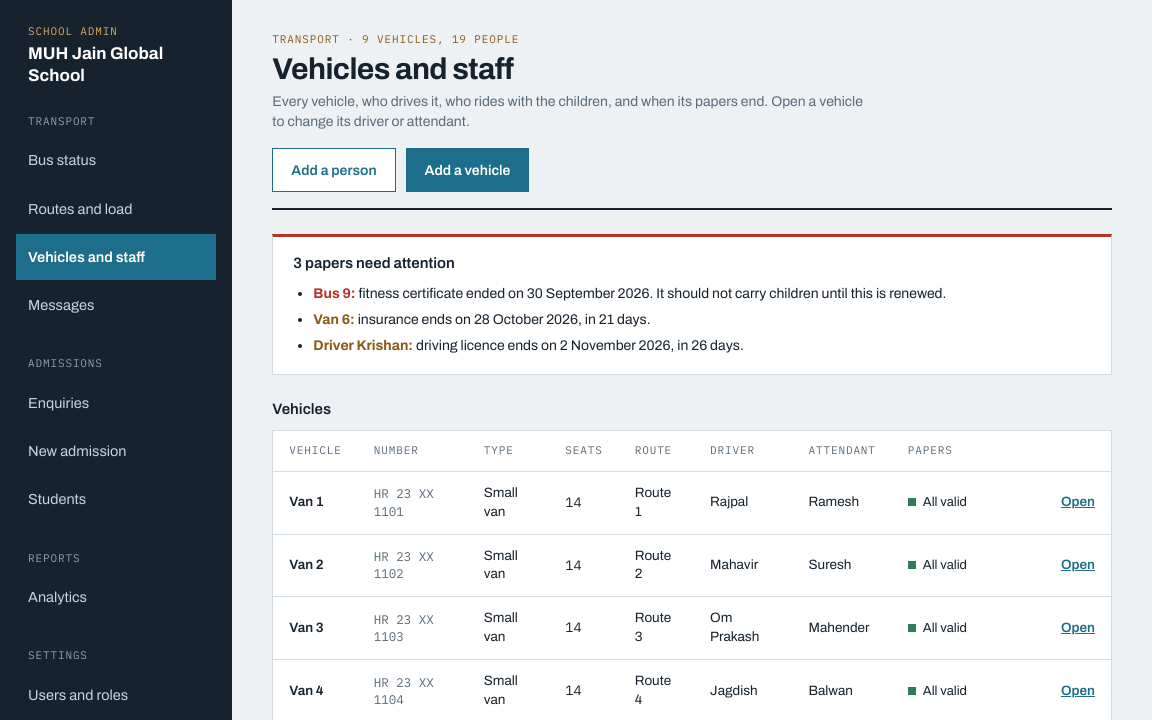
Add and edit a person › adds a driver with a licence and shows them in the table
Click the button "Add a person" at (334, 170), box x1=272 y1=148 x2=396 y2=192
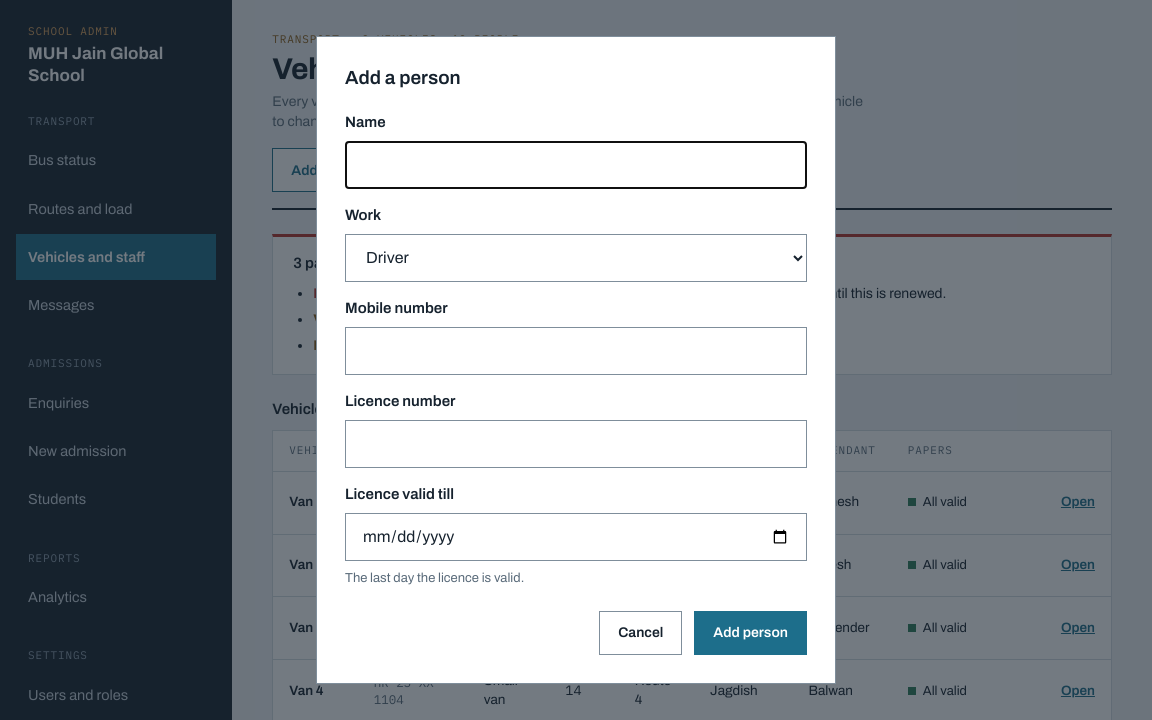
Type "Naresh" into the field labelled "Name" at (576, 165), box x1=345 y1=141 x2=807 y2=189
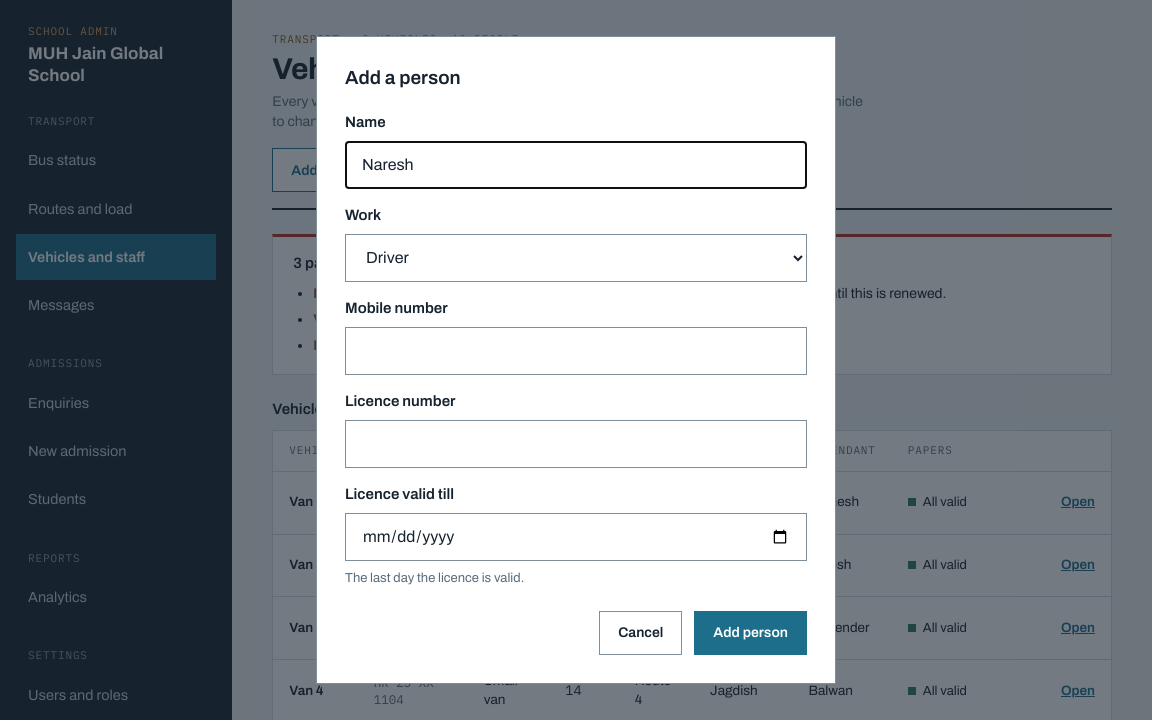
Type "98765 12345" into the field labelled "Mobile number" at (576, 351), box x1=345 y1=327 x2=807 y2=375
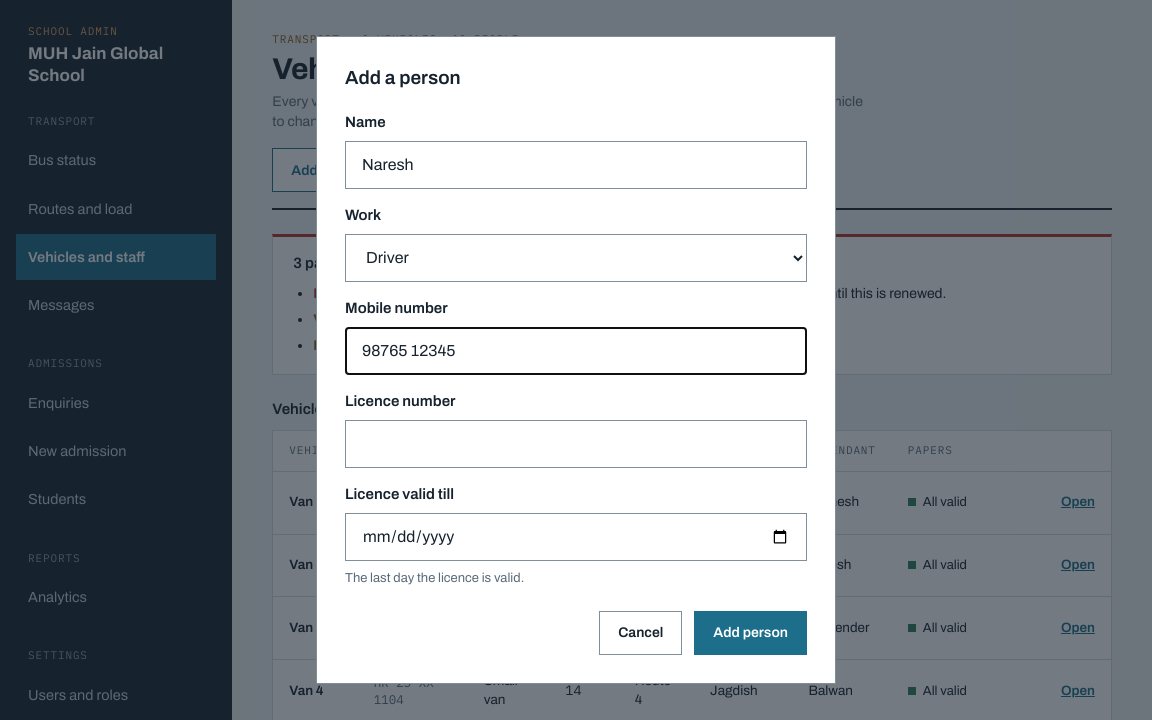
Type "HR23 2020 0000999" into the field labelled "Licence number" at (576, 444), box x1=345 y1=420 x2=807 y2=468
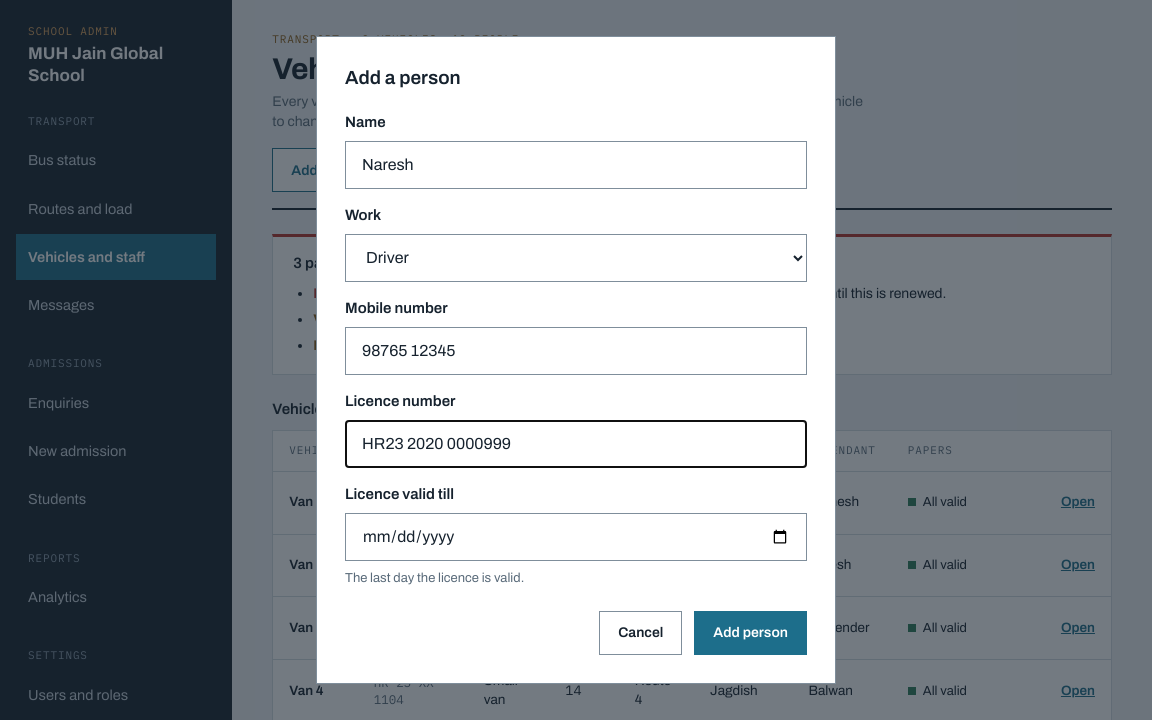
Type "2031-05-04" into the date field labelled "Licence valid till" at (576, 537), box x1=345 y1=513 x2=807 y2=561
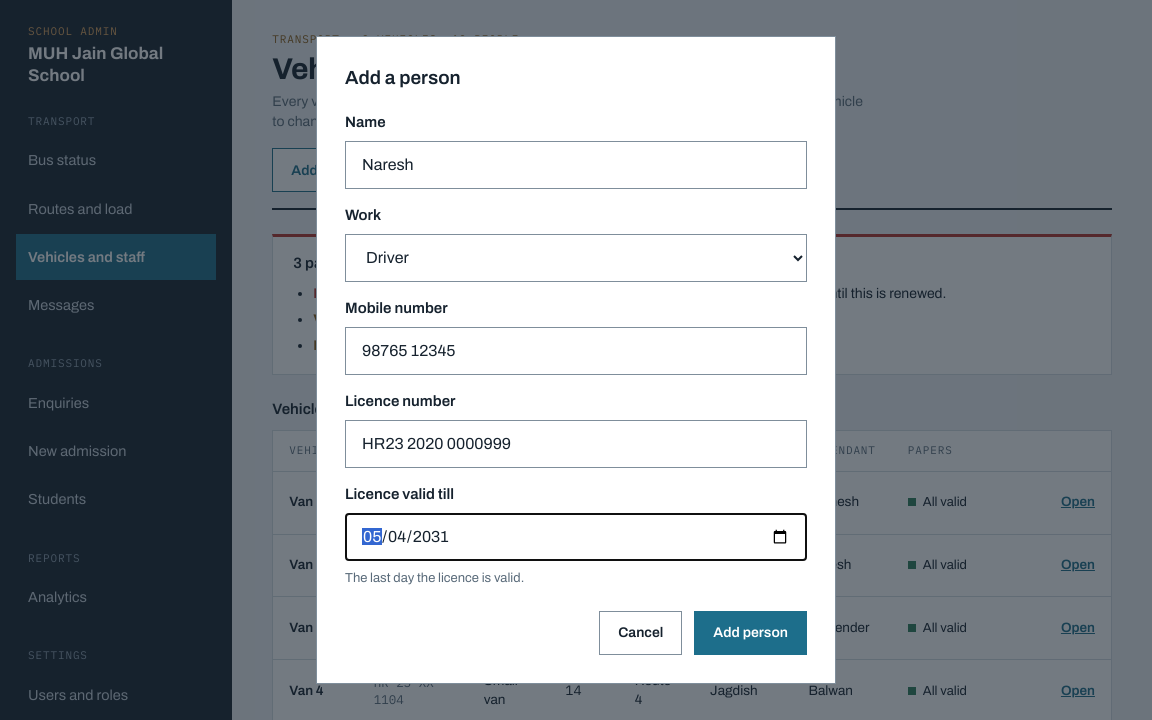
Click the button "Add person" at (751, 633), box x1=694 y1=611 x2=807 y2=655
(page scrolled)
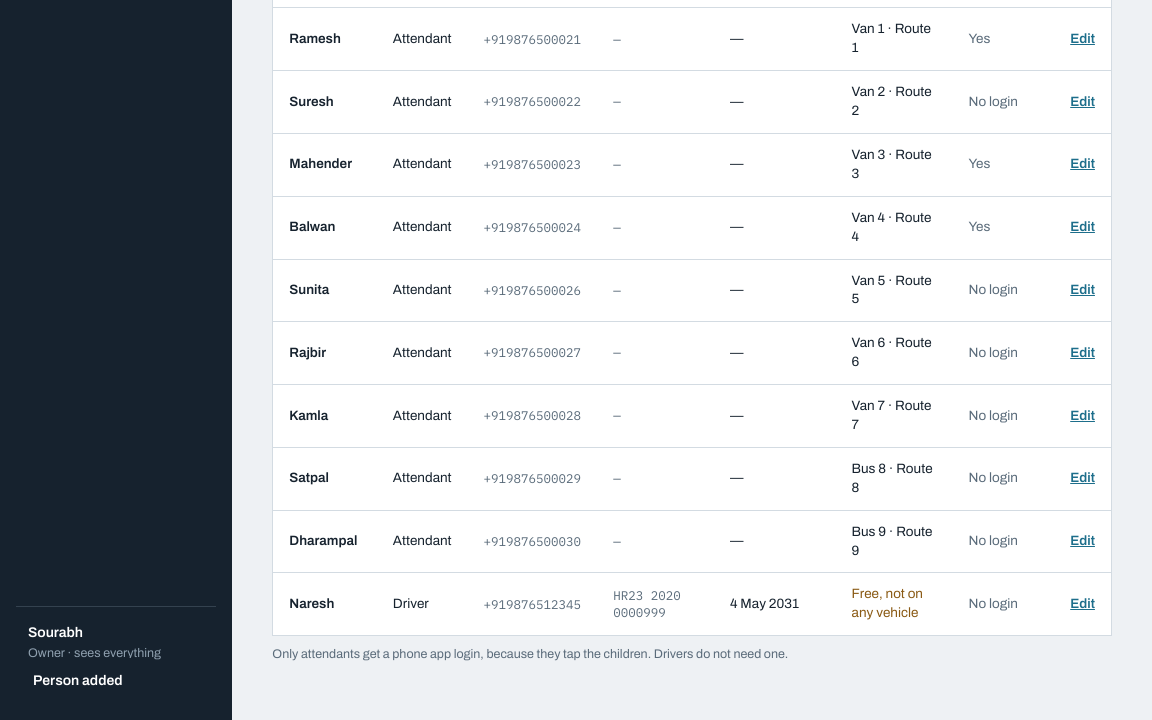
Now the text "Person added" is shown, box x1=16 y1=658 x2=140 y2=704
Now the text "4 May 2031" is shown, box x1=730 y1=596 x2=799 y2=611
